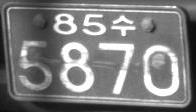0: (141, 43, 180, 96)
5: (18, 40, 53, 90), (82, 14, 107, 36)
7: (98, 41, 135, 95)
8: (59, 40, 95, 93), (52, 12, 78, 35)
수: (110, 14, 135, 36)
